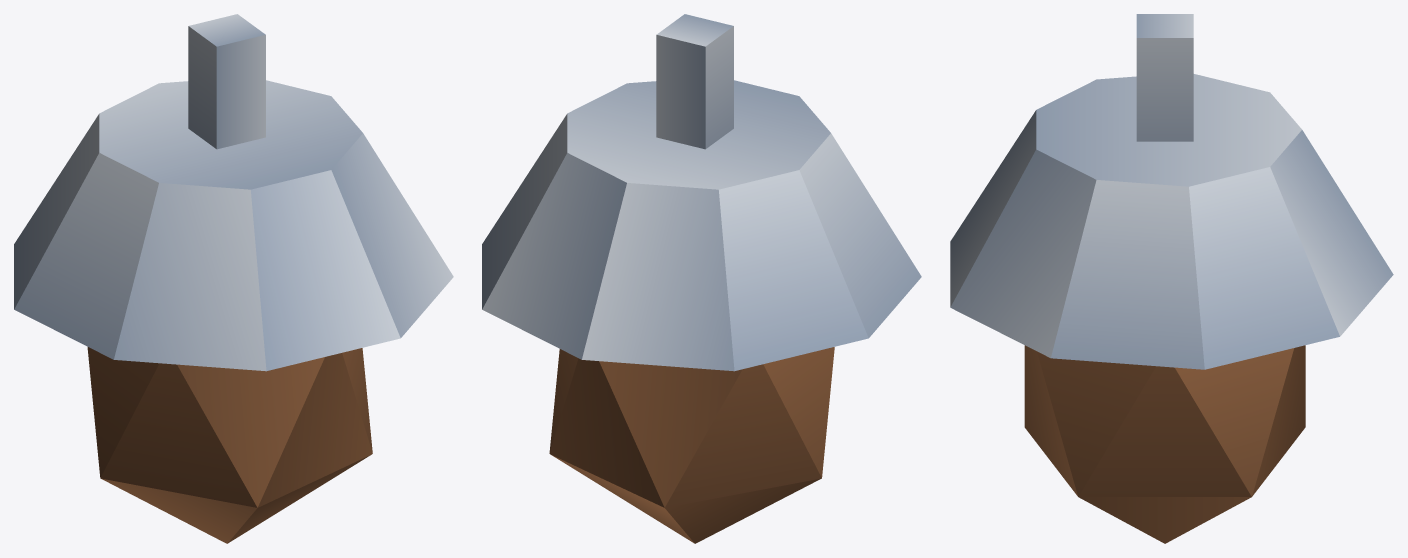
Rendered from acorn.fbx.
The picture shows the model from 3 angles, left to right: view 1: azimuth 30°, elevation 25°; view 2: azimuth 150°, elevation 25°; view 3: azimuth 270°, elevation 25°; orthographic projection.
Visible parts, largest first — view 1: acorn; view 2: acorn; view 3: acorn.
Boxes of the visible parts, bbox=[...] form: acorn: bbox=[14, 14, 453, 543]; acorn: bbox=[482, 14, 921, 543]; acorn: bbox=[950, 14, 1393, 543].
Bounding box in the file's own units: 39.39 × 50 × 38.79.
